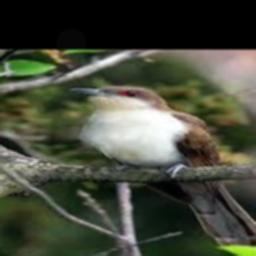Cuckoo: (66, 87, 256, 247)
